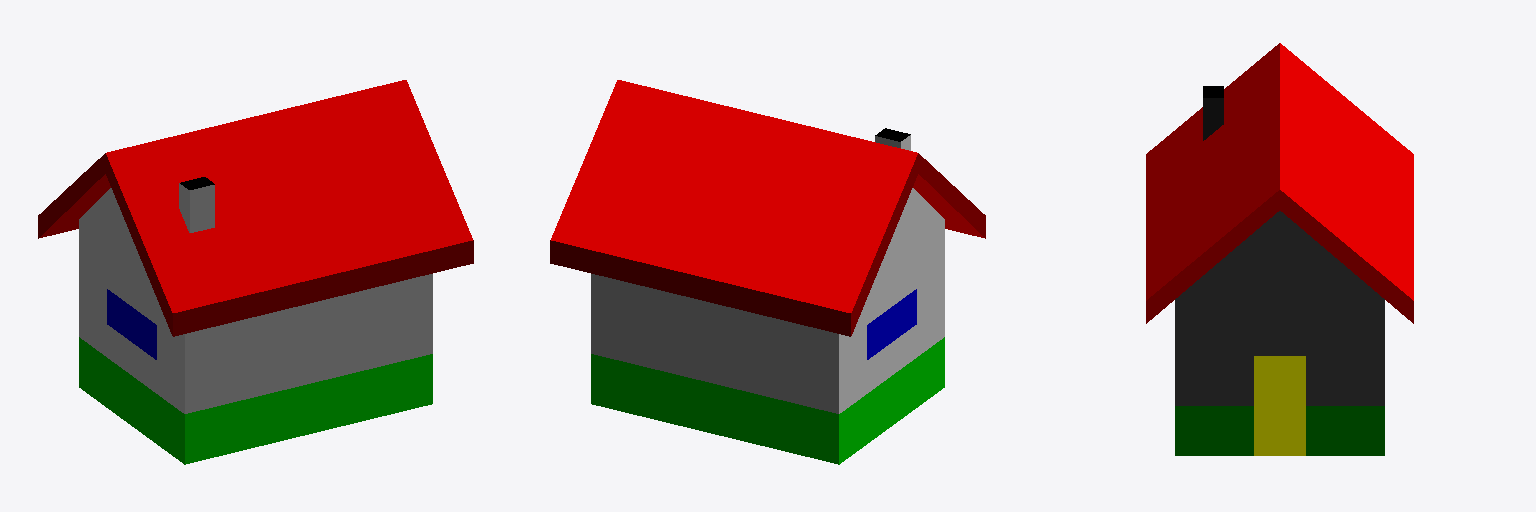
Rendered from gable_house_full.obj.
3 renders of one model, left to right at view 1: azimuth 30°, elevation 25°; view 2: azimuth 150°, elevation 25°; view 3: azimuth 270°, elevation 25°, orthographic.
Parts seen in each view (by area): view 1: Cube_Cube.001; view 2: Cube_Cube.001; view 3: Cube_Cube.001.
Boxes of the visible parts, x1=… form: Cube_Cube.001: x1=38, y1=80, x2=473, y2=464; Cube_Cube.001: x1=550, y1=80, x2=985, y2=464; Cube_Cube.001: x1=1146, y1=43, x2=1413, y2=455.
Size of the model in its own units: 106 by 94.2 by 81.94.